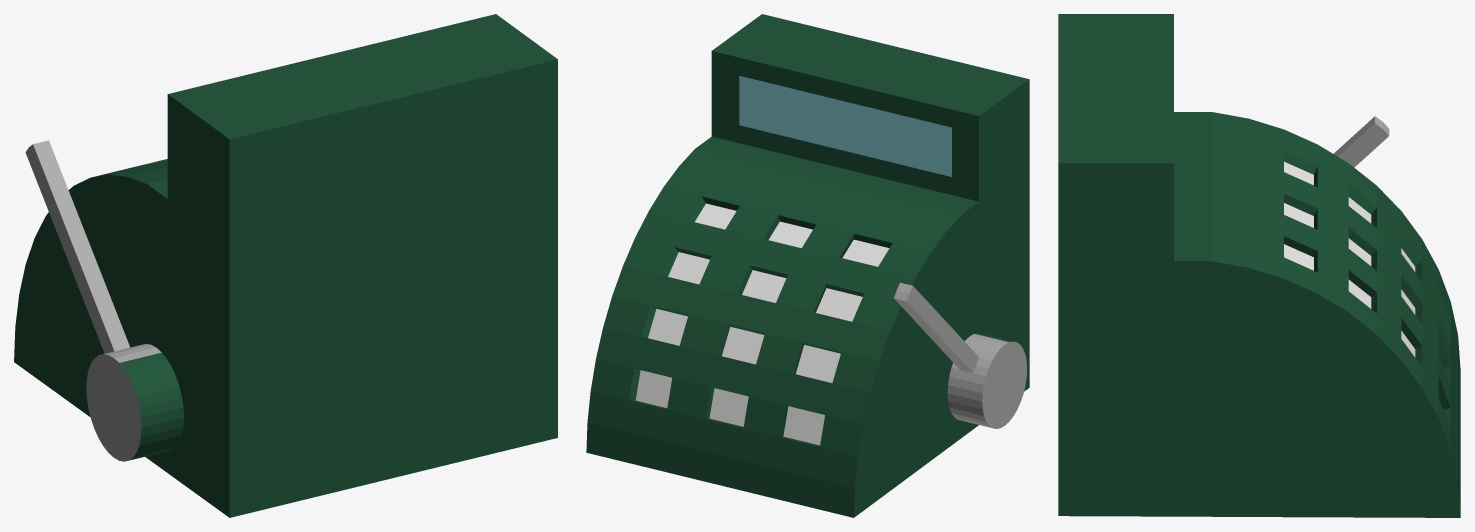
File: cash register.glb
3 renders of one model, left to right at view 1: azimuth 30°, elevation 25°; view 2: azimuth 150°, elevation 25°; view 3: azimuth 270°, elevation 25°, orthographic. The views are drawn at different scales.
Visible parts, largest first — view 1: register; view 2: register; view 3: register.
Part boxes in pixels (box(x1,y1,x2,y2)): register: box(14, 14, 557, 517); register: box(586, 14, 1029, 517); register: box(1058, 14, 1460, 517).
Bounding box in the file's own units: 0.9108 × 0.893 × 0.9173.
